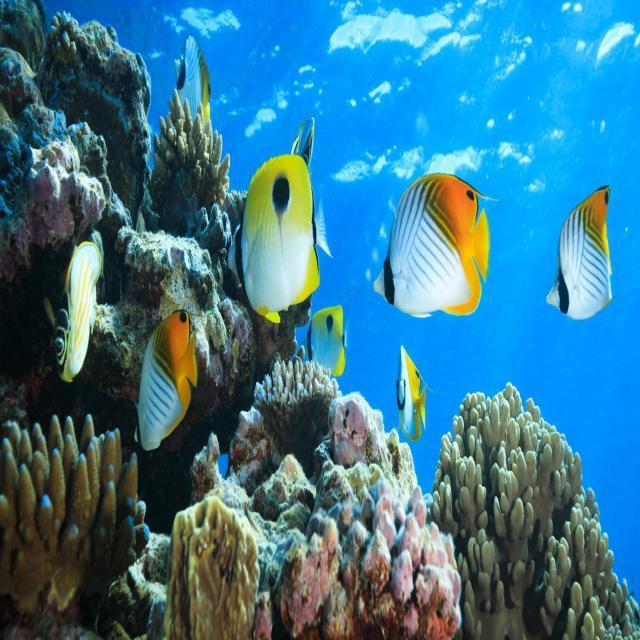ButterflyFish: (360, 162, 498, 324), (228, 162, 332, 330), (540, 185, 626, 340), (140, 315, 214, 462), (53, 244, 121, 390), (380, 343, 440, 455), (158, 39, 226, 134), (294, 316, 354, 388)
